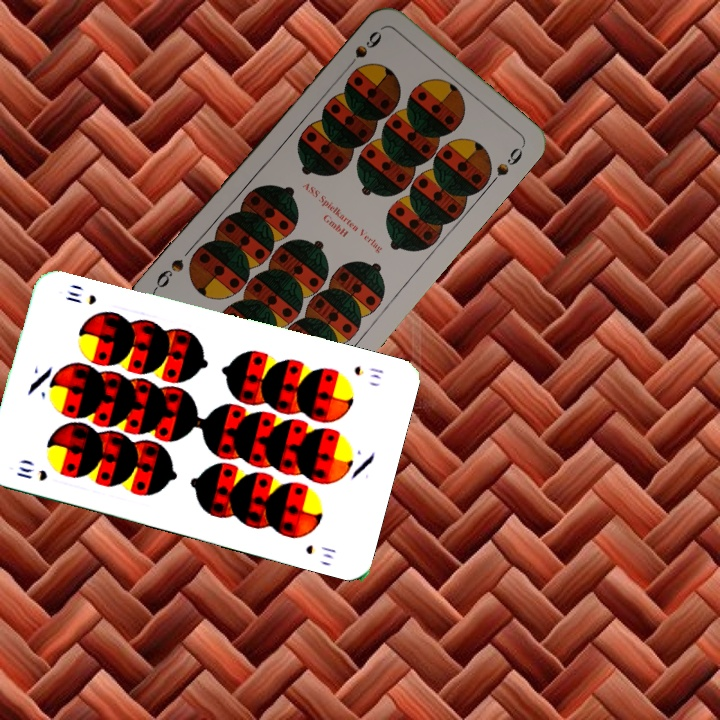S10: (12, 462, 50, 484), (350, 361, 386, 382)
S9: (341, 26, 385, 74)
